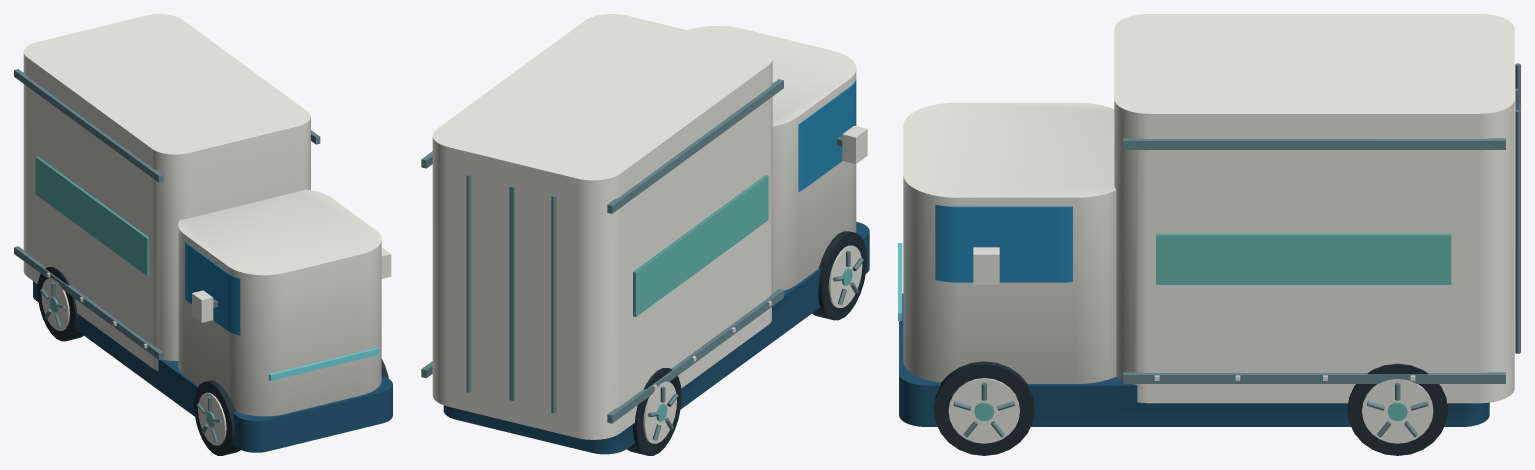
The model's file is delivery-truck.glb.
3 views of the same model, side by side, from view 1: azimuth 30°, elevation 25°; view 2: azimuth 150°, elevation 25°; view 3: azimuth 270°, elevation 25° (orthographic). The views are drawn at different scales.
Parts seen in each view (by area): view 1: electric truck cabin, truck chassis, wheel centre, cargo rear lock, truck glass, electric tire, truck LED bar; view 2: electric truck cabin, cargo rear lock, wheel centre, truck chassis, truck glass, electric tire; view 3: electric truck cabin, wheel centre, truck chassis, cargo rear lock, truck glass, electric tire.
Part boxes in pixels (x1,y1,x2,y2): electric truck cabin: (23,14,391,445); truck chassis: (33,281,392,452); wheel centre: (35,156,215,426); cargo rear lock: (14,69,320,442); truck glass: (185,242,240,335); electric tire: (37,267,388,455); truck LED bar: (269,347,379,381); electric truck cabin: (432,14,867,443); cargo rear lock: (421,79,863,440); wheel centre: (633,175,852,421); truck chassis: (443,221,869,454); truck glass: (798,79,856,191); electric tire: (627,231,866,455); electric truck cabin: (903,14,1514,443); wheel centre: (974,233,1451,420); truck chassis: (899,293,1489,426); cargo rear lock: (953,63,1520,437); truck glass: (935,204,1072,282); electric tire: (934,361,1447,455).
Bounding box in the file's own units: 1.32 × 1.72 × 2.85.
